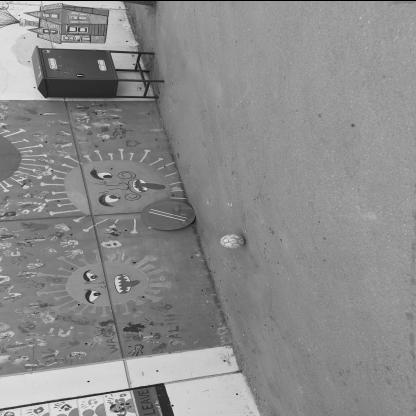No Waiting: (142, 201, 196, 231)
